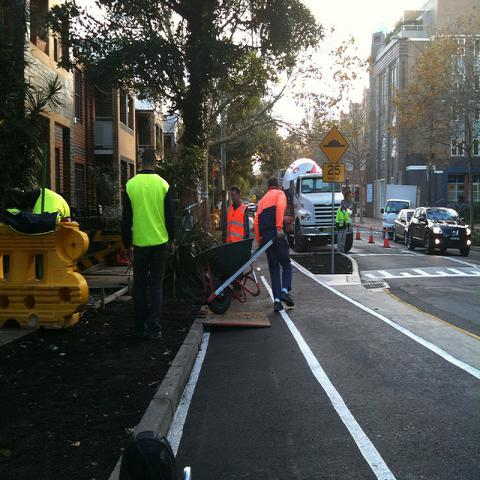car: (406, 206, 472, 256), (392, 209, 414, 245), (248, 202, 256, 212)
truck: (283, 154, 345, 255), (381, 183, 422, 239)
